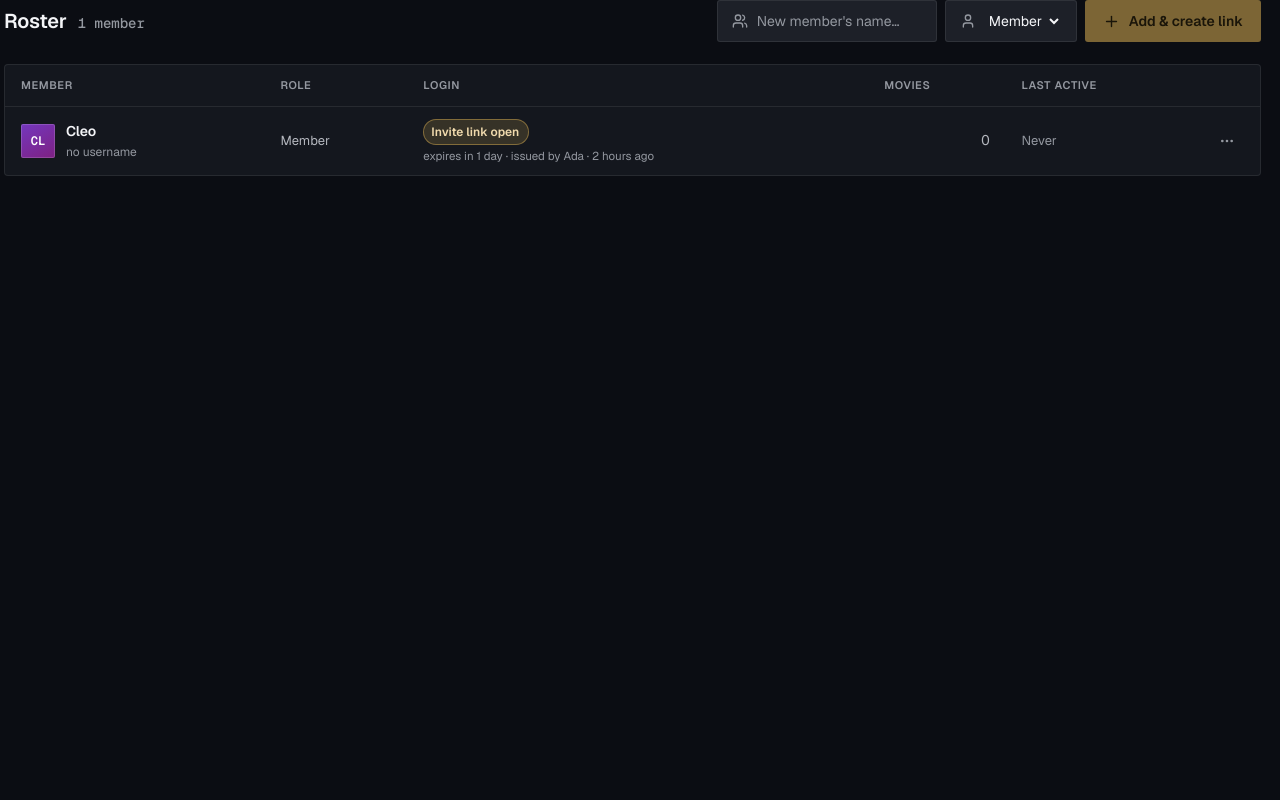
Test case: invite state inside the roster › routes replacement through the immutable invite handle
The width and height of the screenshot is (1280, 800).
Click the button named "Actions for Cleo": coordinates (1227, 141) [1210, 124, 1244, 158]
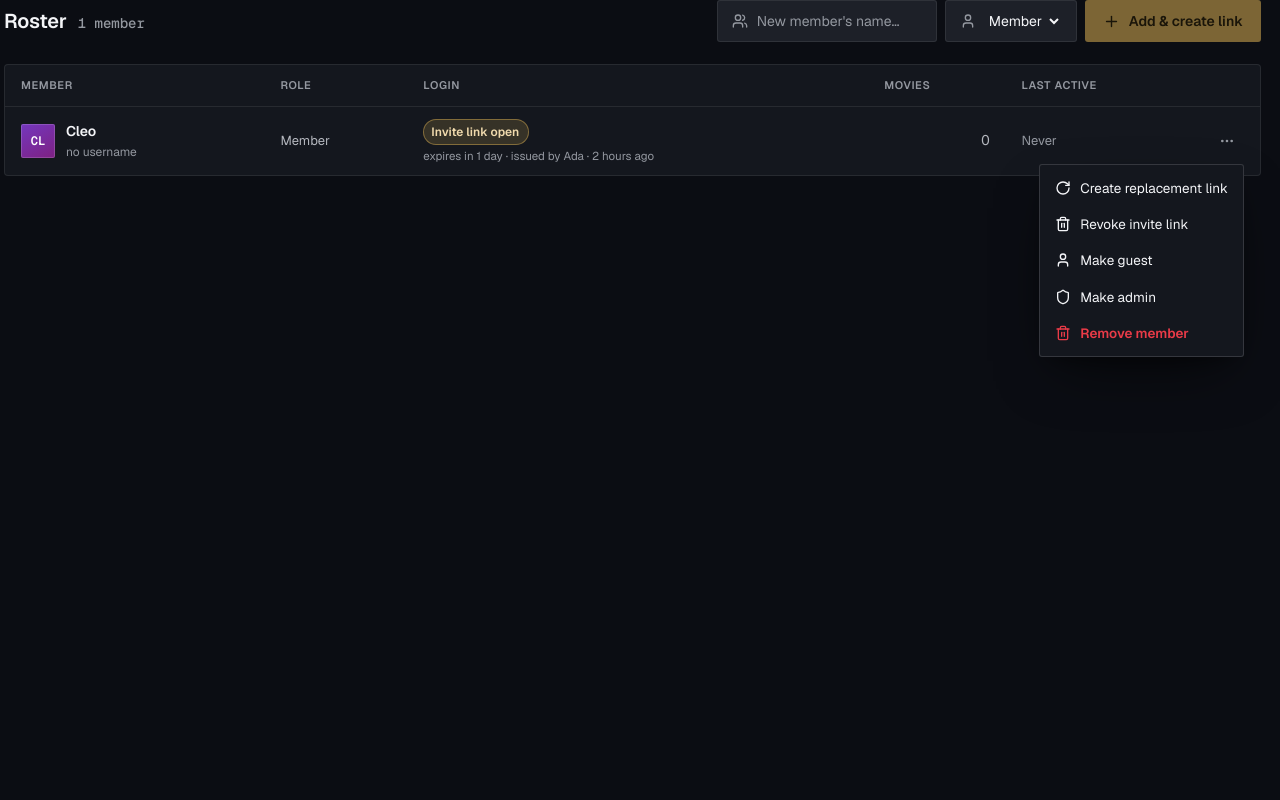
Click the menu item "Create replacement link": coordinates (1142, 188) [1045, 170, 1238, 206]
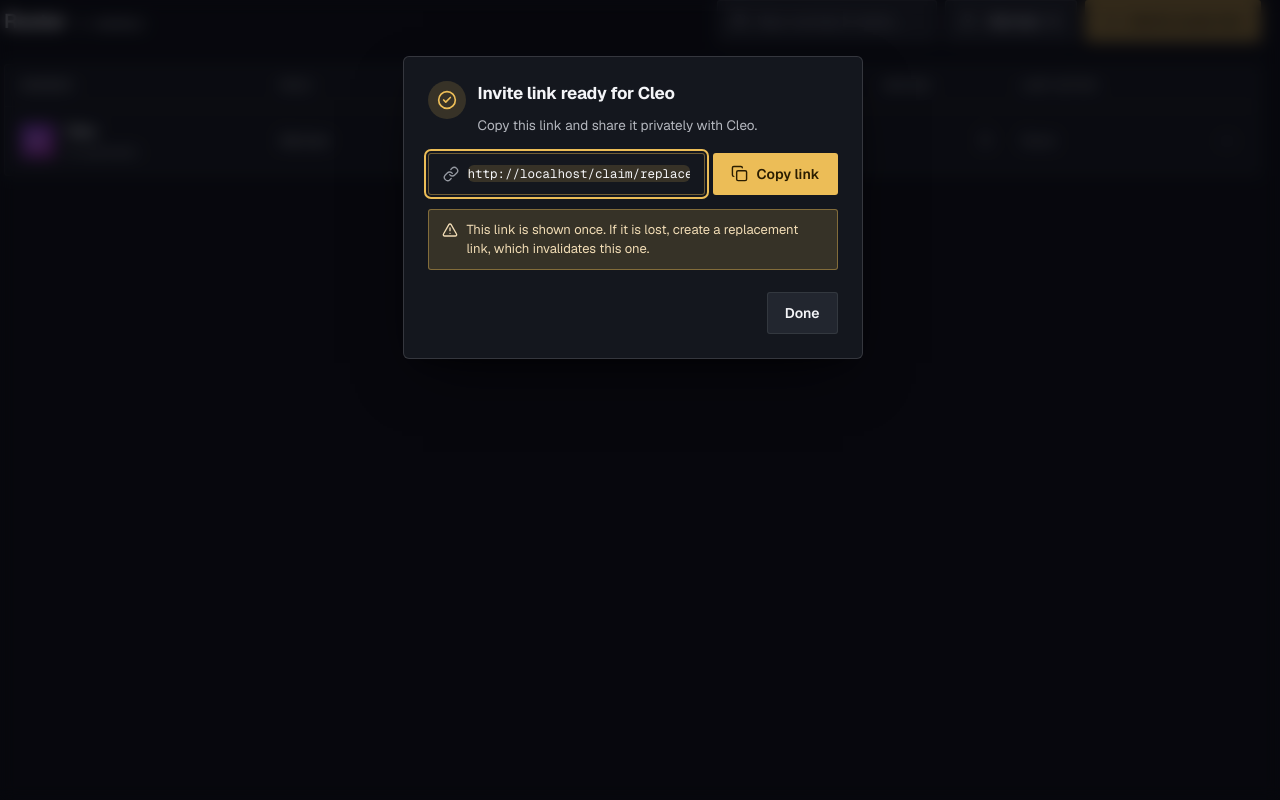
Expected: the heading reads "Invite link ready for Cleo", [478, 82, 675, 104]
